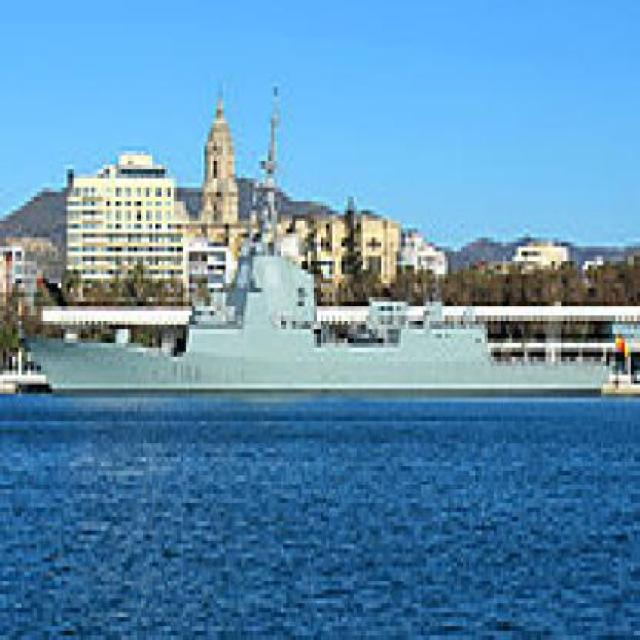warship2: (34, 70, 623, 404)
